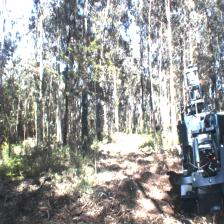trunktrack_idkeyframe: (82, 103, 88, 148)
